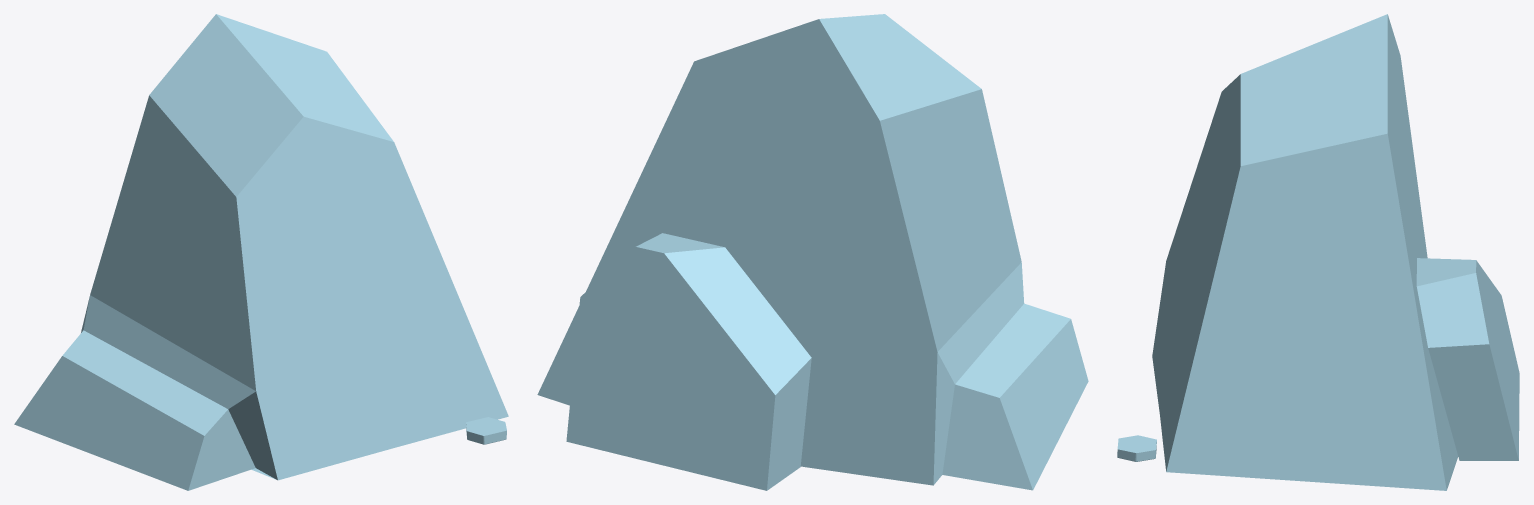
Rendered from BlocoGelo.fbx.
3 renders of one model, left to right at view 1: azimuth 30°, elevation 25°; view 2: azimuth 150°, elevation 25°; view 3: azimuth 270°, elevation 25°, orthographic. The views are drawn at different scales.
Visible parts, largest first — view 1: Cube, Cube.001; view 2: Cube; view 3: Cube, Cube.001.
Part boxes in pixels (x1,y1,x2,y2): Cube: [14, 14, 508, 490]; Cube.001: [466, 417, 506, 444]; Cube: [537, 14, 1088, 490]; Cube: [1152, 14, 1519, 490]; Cube.001: [1117, 435, 1156, 461].
Bounding box in the file's own units: 218 × 184 × 181.
